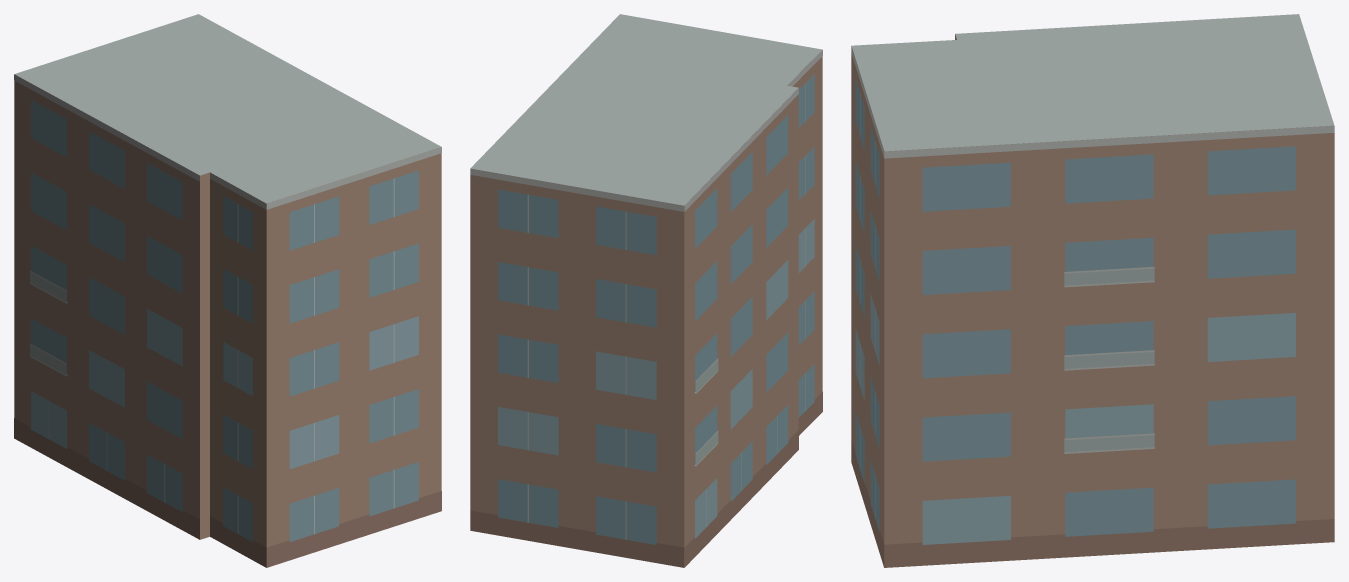
Rendered from survey-upis-32715322.glb.
3 views of the same model, side by side, from view 1: azimuth 30°, elevation 25°; view 2: azimuth 150°, elevation 25°; view 3: azimuth 270°, elevation 25° (orthographic). The views are drawn at different scales.
Parts seen in each view (by area): view 1: survey-upis-32715322.tmp; view 2: survey-upis-32715322.tmp; view 3: survey-upis-32715322.tmp.
Part boxes in pixels (x1,y1,x2,y2): survey-upis-32715322.tmp: (14,14,441,567); survey-upis-32715322.tmp: (470,14,822,567); survey-upis-32715322.tmp: (851,14,1334,567).
Size of the model in its own units: 9.98 by 14.1 by 14.83.
